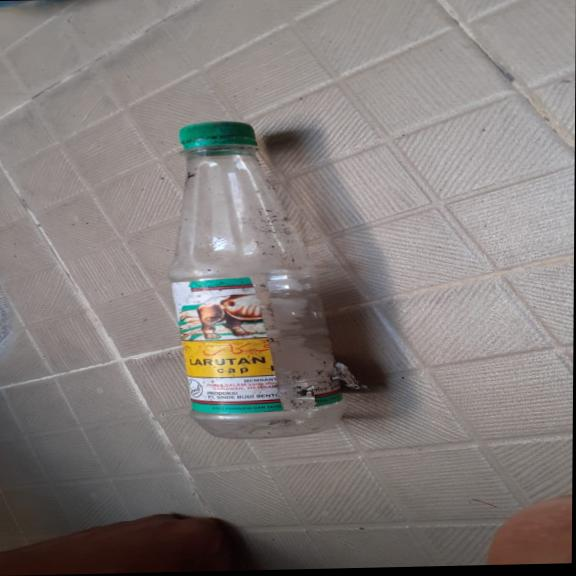Plastik: (164, 115, 367, 442)
